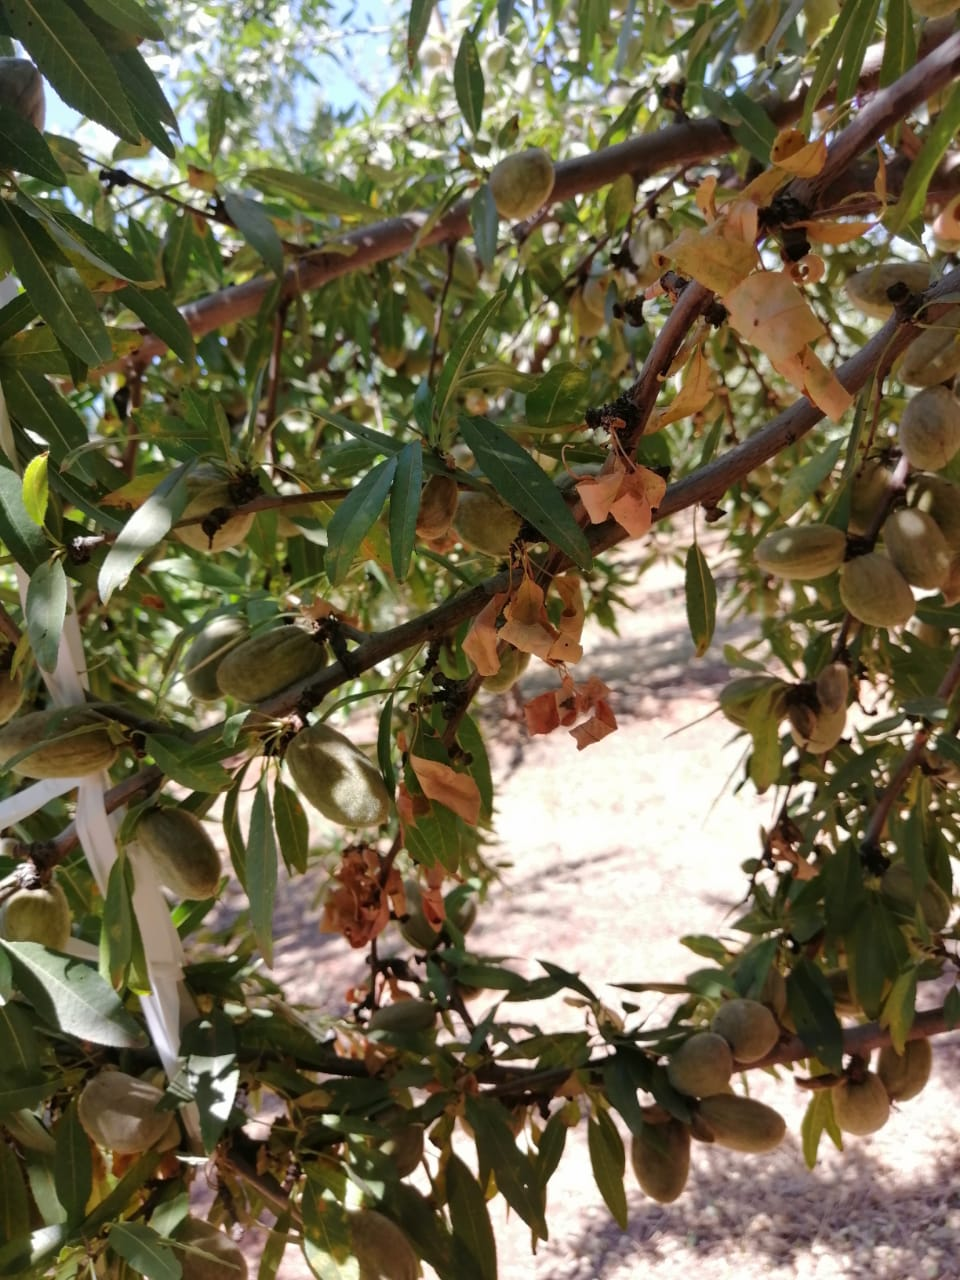chancre fusicocum: (461, 103, 855, 750), (315, 844, 409, 1031)
